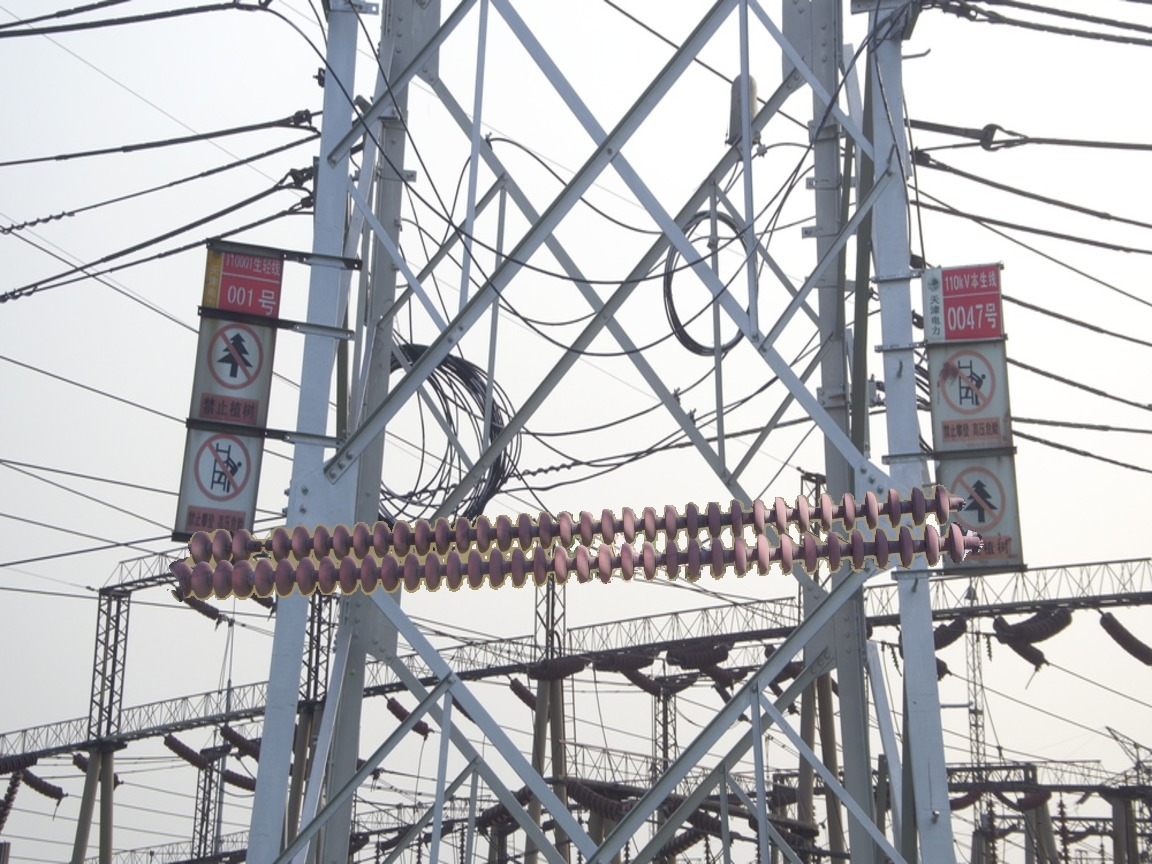defect: (230, 526, 291, 565)
